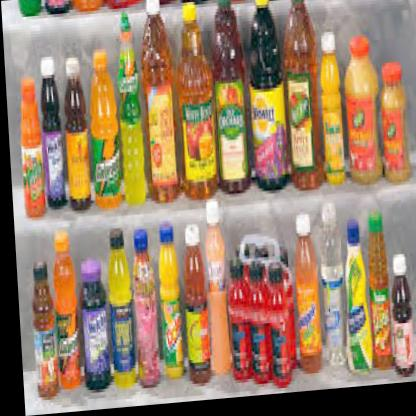Plastic: (240, 0, 286, 194), (138, 0, 178, 207), (174, 3, 214, 198), (206, 0, 246, 195), (108, 8, 144, 208), (84, 43, 118, 210), (312, 210, 344, 383), (44, 226, 78, 386), (126, 223, 158, 387), (100, 226, 132, 386), (60, 45, 90, 211), (74, 246, 107, 394), (197, 203, 224, 378), (152, 218, 180, 386), (34, 47, 63, 207), (12, 66, 42, 220), (23, 255, 52, 385)
